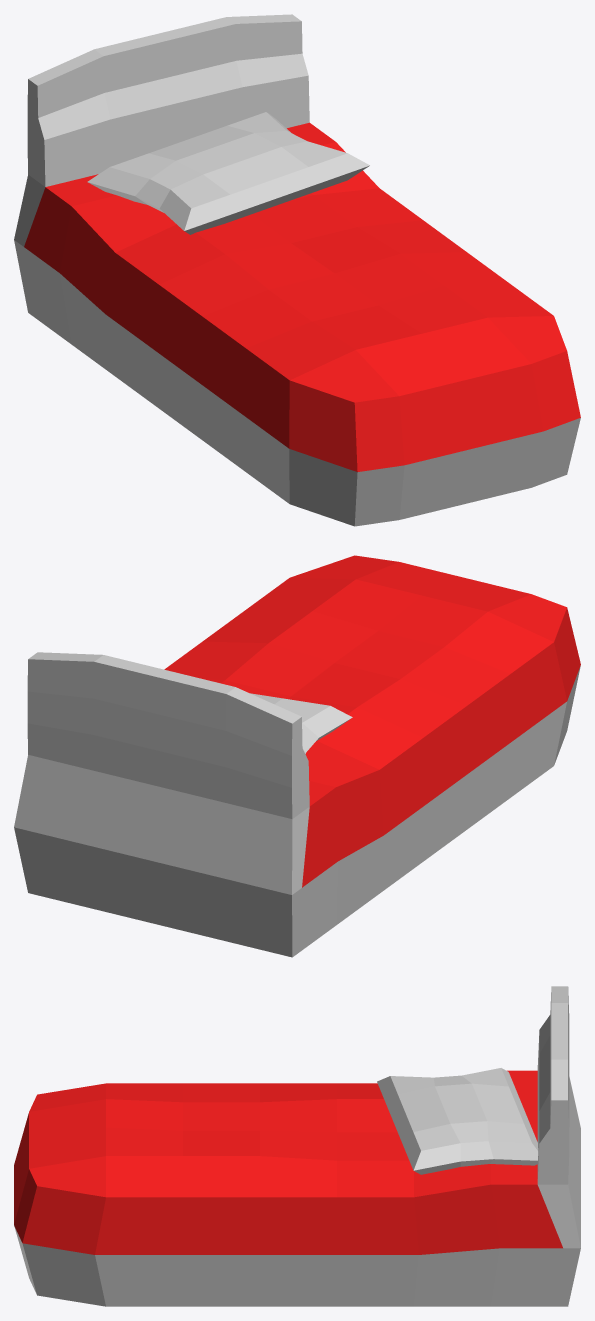
File: Bedroom_Prop_Bed.fbx
3 renders of one model, top to bottom at view 1: azimuth 30°, elevation 25°; view 2: azimuth 150°, elevation 25°; view 3: azimuth 270°, elevation 25°, orthographic. The views are drawn at different scales.
Parts seen in each view (by area): view 1: Cube.003; view 2: Cube.003; view 3: Cube.003.
Boxes of the visible parts, x1,y1,x2,y2 form: Cube.003: (14,14,580,526); Cube.003: (14,555,580,957); Cube.003: (14,986,580,1306).
Bounding box in the file's own units: 421 × 358 × 841.
